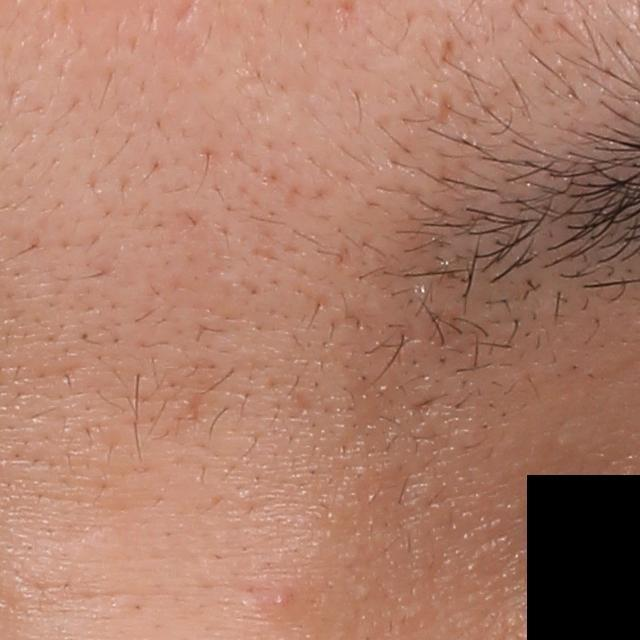atrophic_scar: (432, 91, 452, 130)
comedo: (265, 589, 289, 611)
